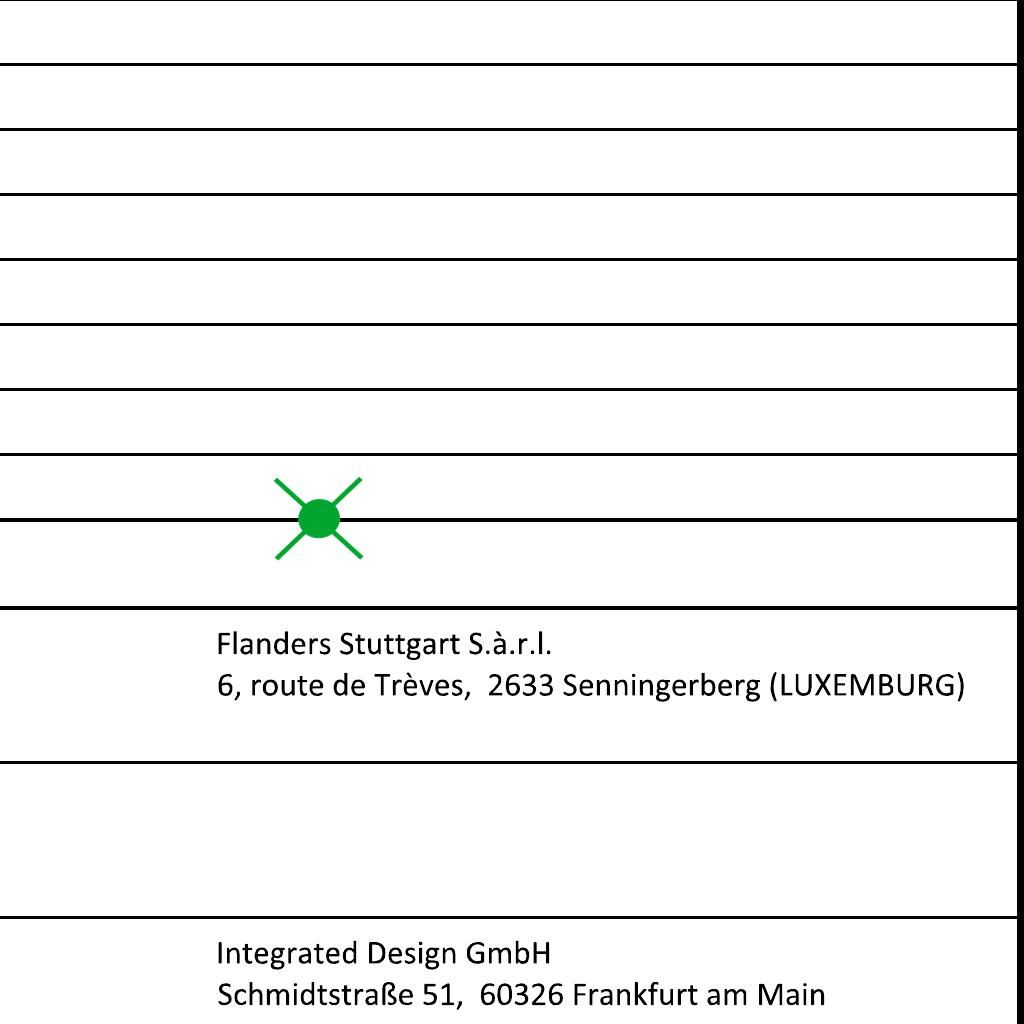Notlichtbaustein_in_Allgemeinbeleuchtug_engebaut_Einbau_(1UG_und_2UG_Aufbauvaria: (269, 466, 369, 569)
